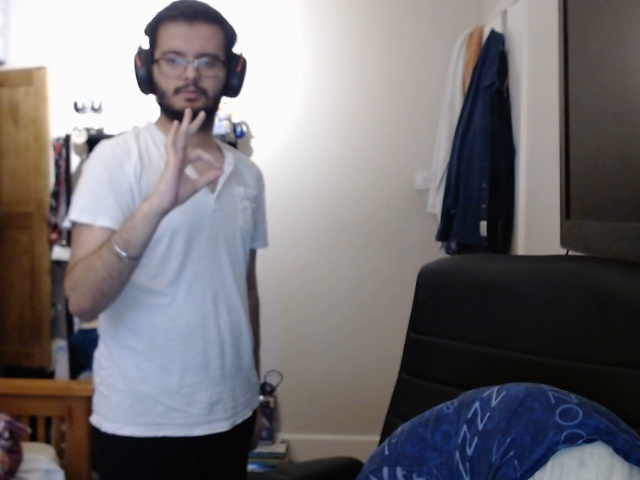Okay: (149, 101, 229, 213)
